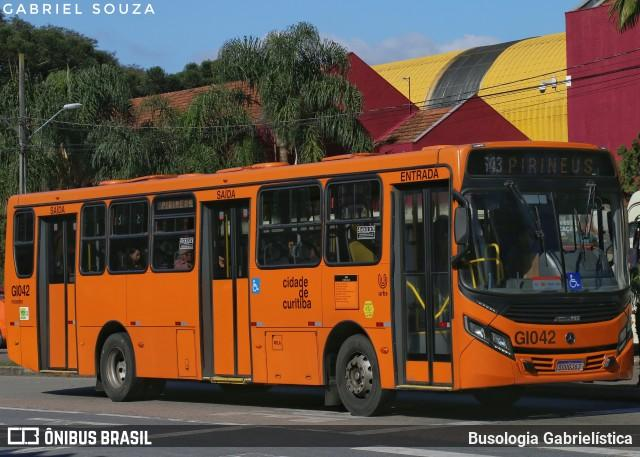PIRINEUS: (503, 152, 598, 177)
